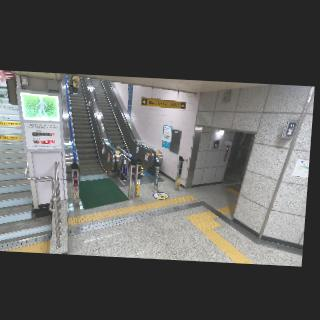anomaly: (116, 146, 140, 166)
